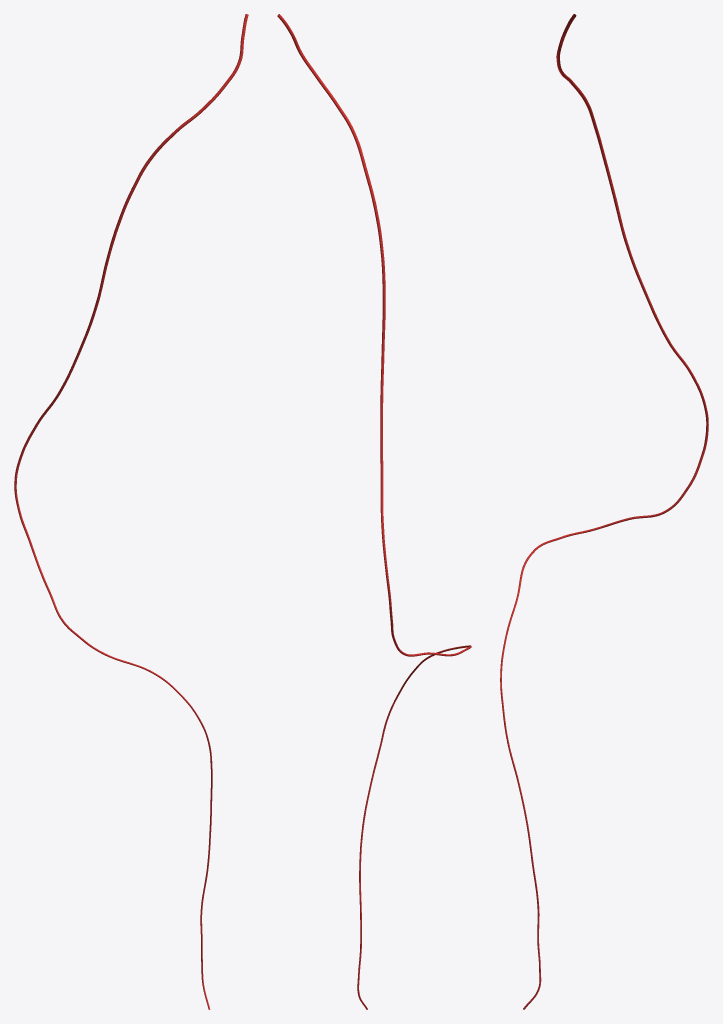
Rendered from circulatorio-right-testicular-artery-r.glb.
3 views of the same model, side by side, from view 1: azimuth 30°, elevation 25°; view 2: azimuth 150°, elevation 25°; view 3: azimuth 270°, elevation 25° (orthographic). The views are drawn at different scales.
Parts seen in each view (by area): view 1: Right testicular artery.r; view 2: Right testicular artery.r; view 3: Right testicular artery.r.
Part boxes in pixels (bbox=[...]): Right testicular artery.r: bbox=[14, 14, 248, 1009]; Right testicular artery.r: bbox=[277, 14, 471, 1009]; Right testicular artery.r: bbox=[500, 14, 708, 1009].
Size of the model in its own units: 0.0723 by 0.3729 by 0.0686.
